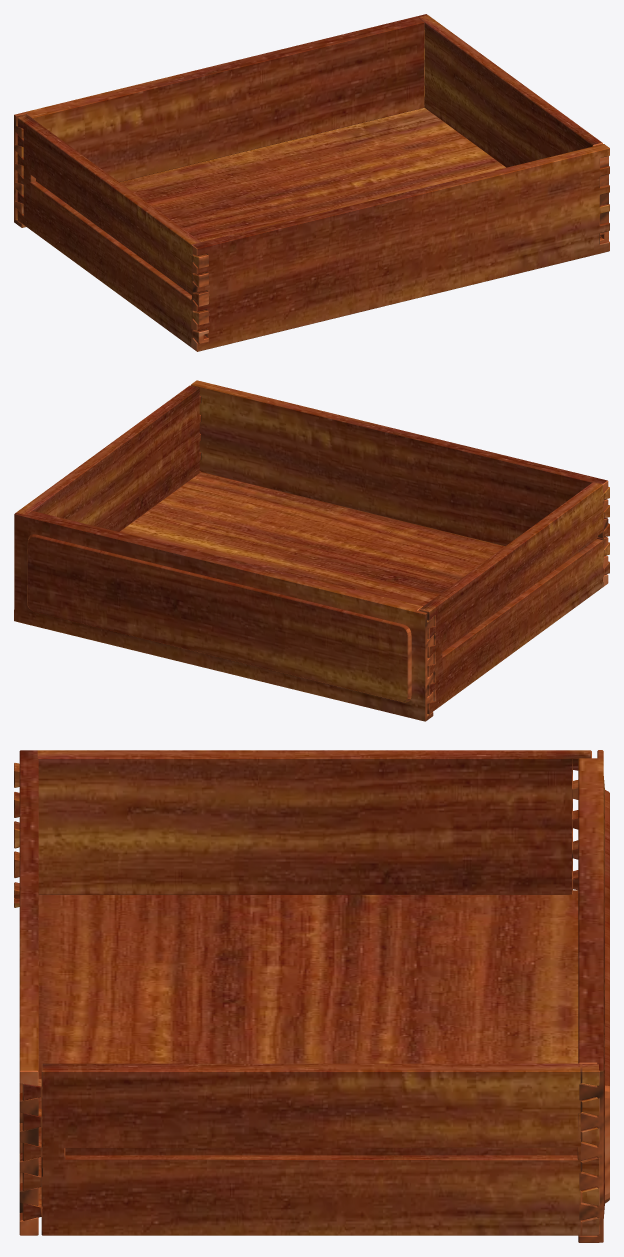
The model's file is SJ_J_H_choudiban_02.FBX.
The picture shows the model from 3 angles, top to bottom: view 1: azimuth 30°, elevation 25°; view 2: azimuth 150°, elevation 25°; view 3: azimuth 270°, elevation 25°; orthographic projection. The views are drawn at different scales.
Visible parts, largest first — view 1: SJ_J_H_choudiban_02; view 2: SJ_J_H_choudiban_02; view 3: SJ_J_H_choudiban_02.
Boxes of the visible parts, <box> form: SJ_J_H_choudiban_02: <box>14,14,609,351</box>; SJ_J_H_choudiban_02: <box>14,380,609,721</box>; SJ_J_H_choudiban_02: <box>14,750,609,1242</box>.
Size of the model in its own units: 48.01 by 12.01 by 37.65.
